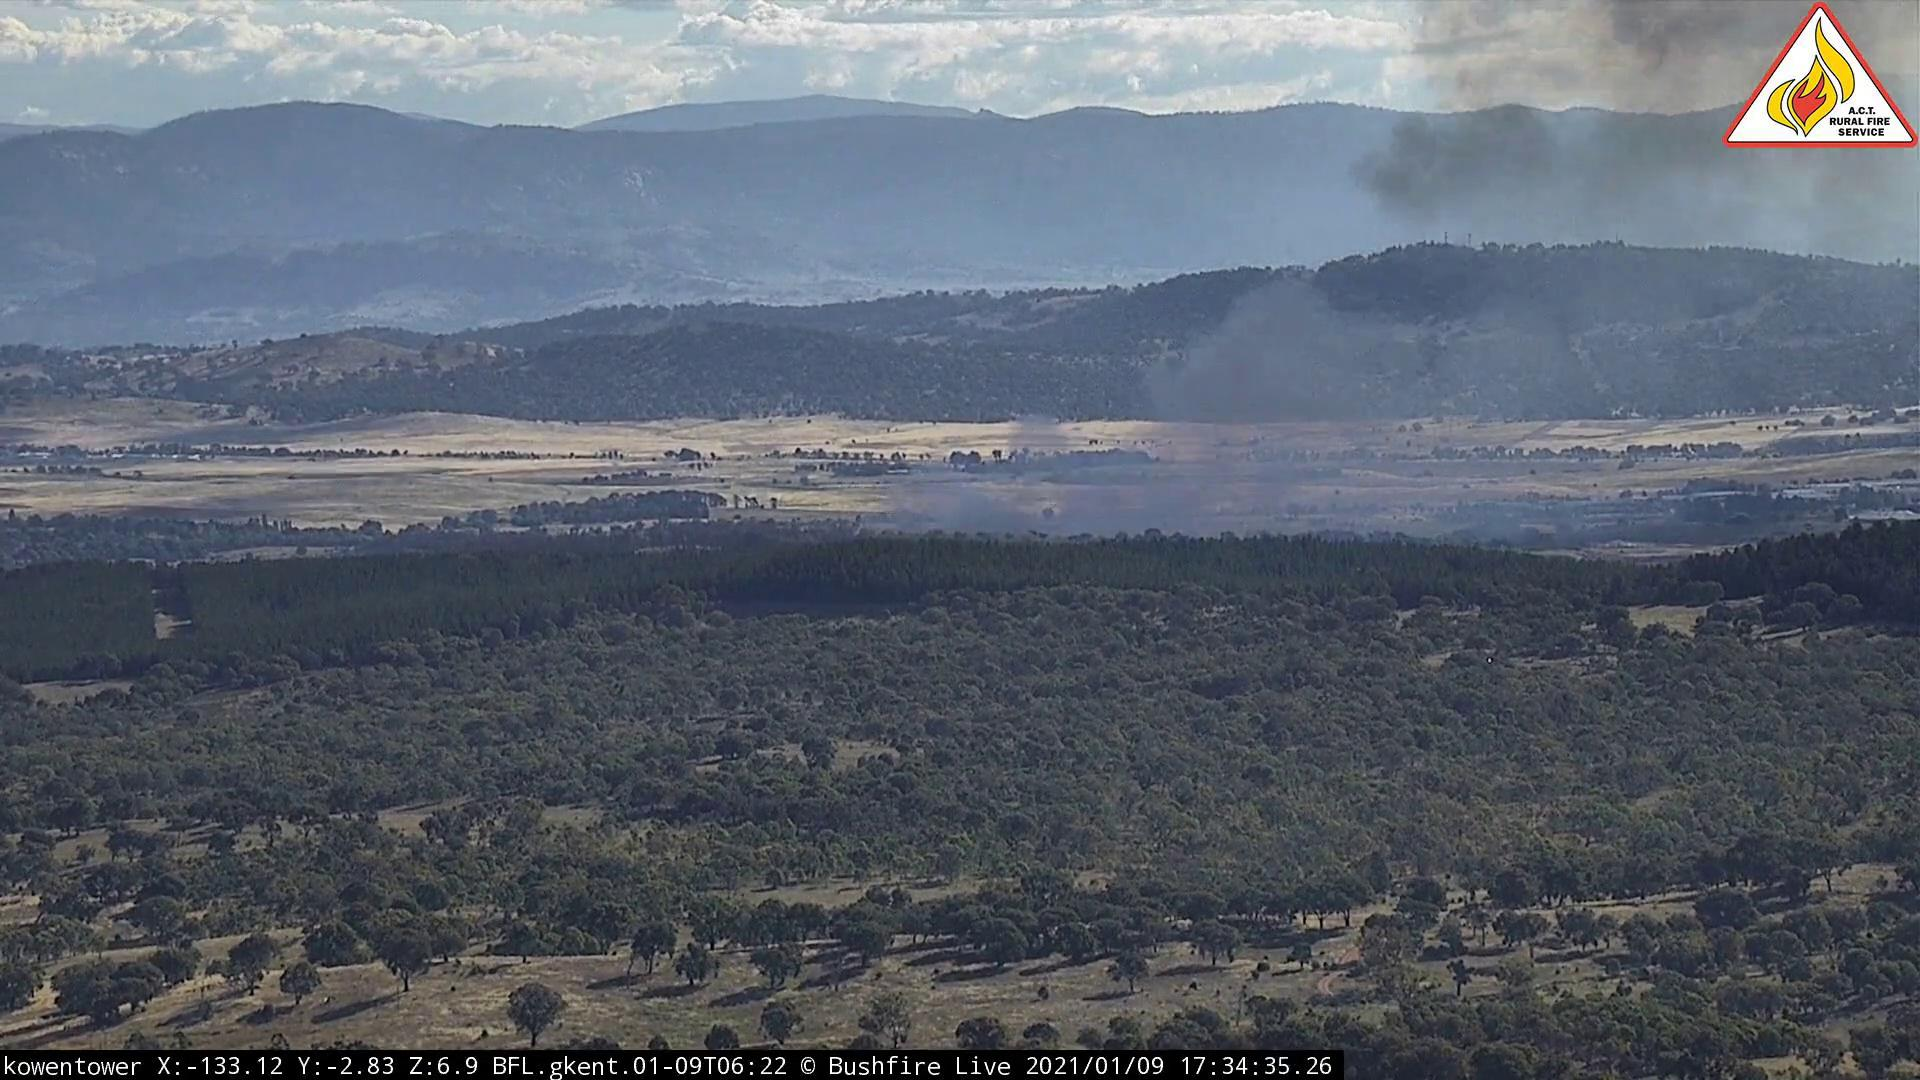Smoke: (862, 3, 1717, 549)
